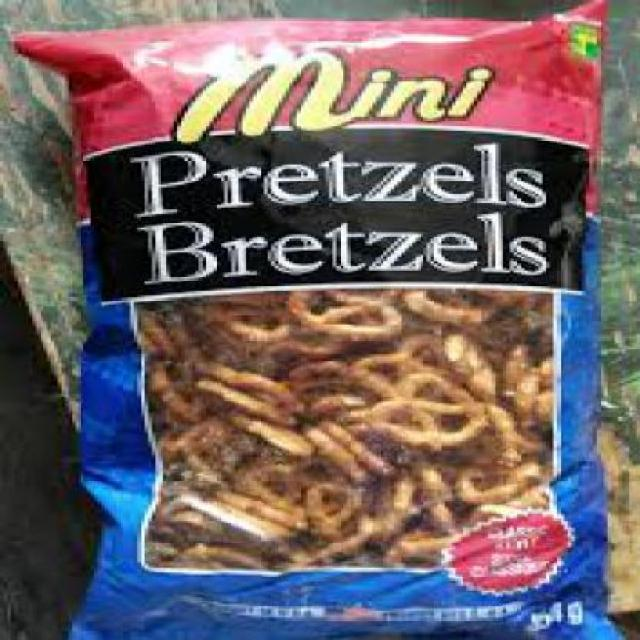Salatini: (22, 4, 636, 638)
